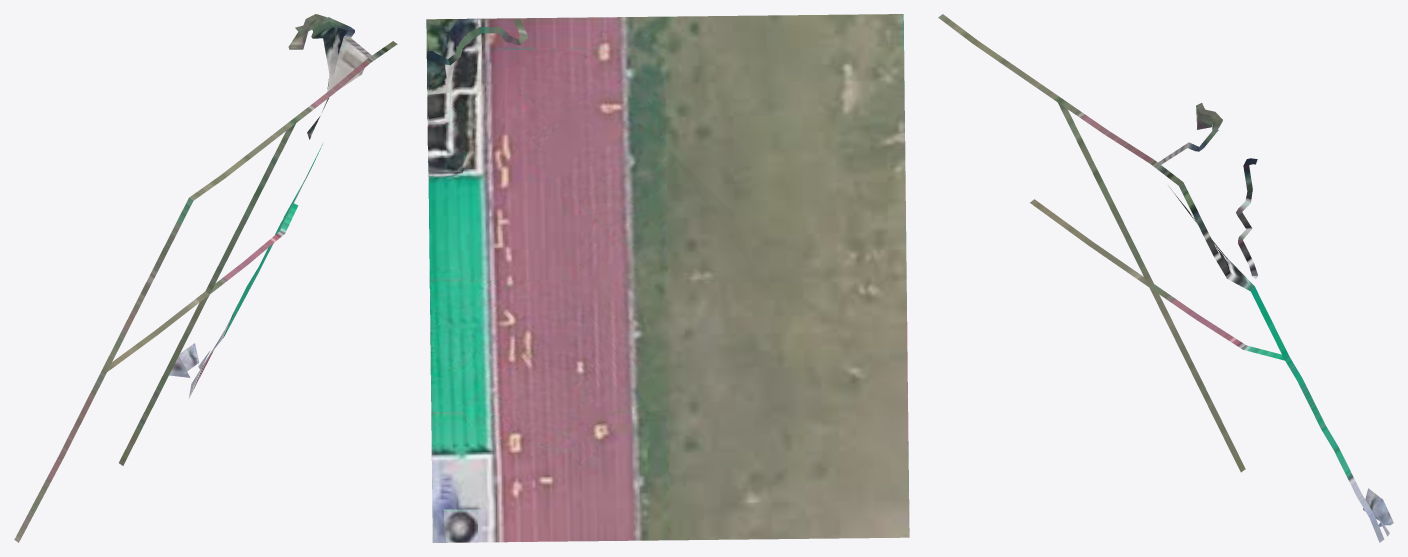
The picture shows the model from 3 angles, left to right: view 1: azimuth 30°, elevation 25°; view 2: azimuth 150°, elevation 25°; view 3: azimuth 270°, elevation 25°; orthographic projection. The views are drawn at different scales.
Size of the model in its own units: 38.33 by 37.29 by 34.09.
Materials: 1 (1 with a texture image).
